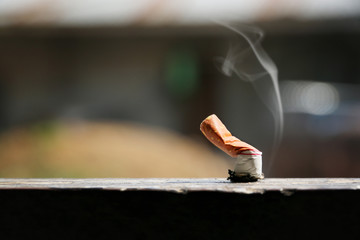cigarette: (197, 111, 267, 184)
